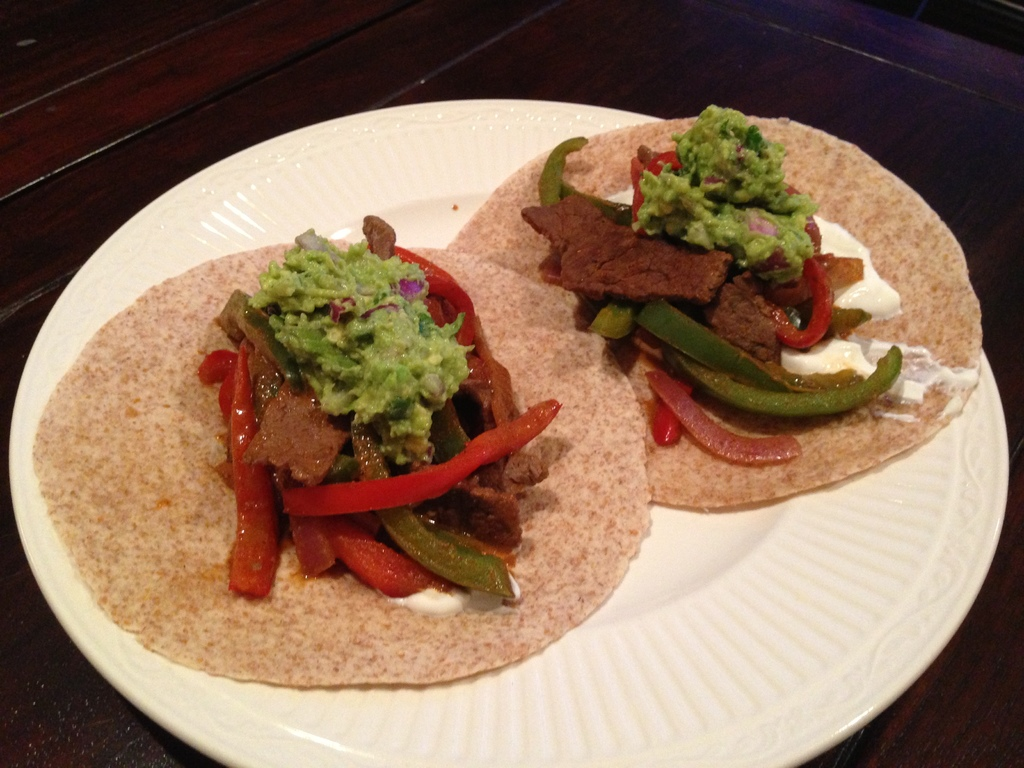taco: (31, 209, 652, 687), (444, 111, 978, 500)
